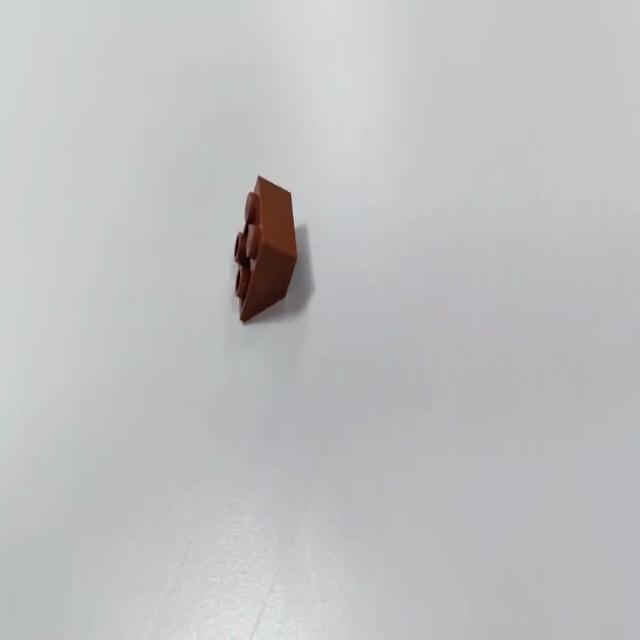X2x2x1: (232, 172, 298, 324)
